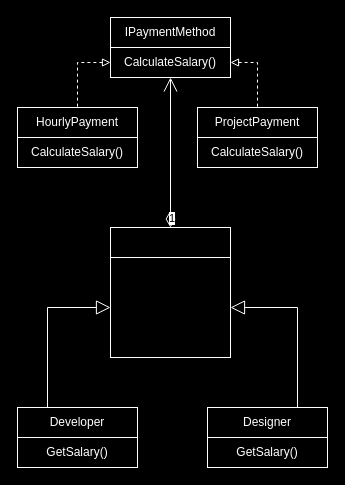
This 345x485 diagram has some shape labels left out. Here are the shapes that lost their labels. From the top down, the centre of each, then its label:
point (170, 242): Employee
point (170, 307): Name Position HourlyRate ProjectRate HoursWorked ProjectCompleted
